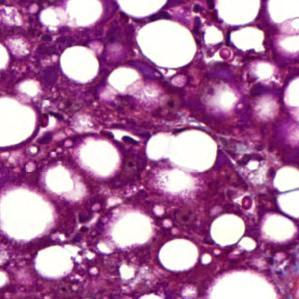steatosis: (137, 18, 199, 70), (60, 43, 100, 88), (156, 238, 204, 271), (211, 213, 246, 249)
